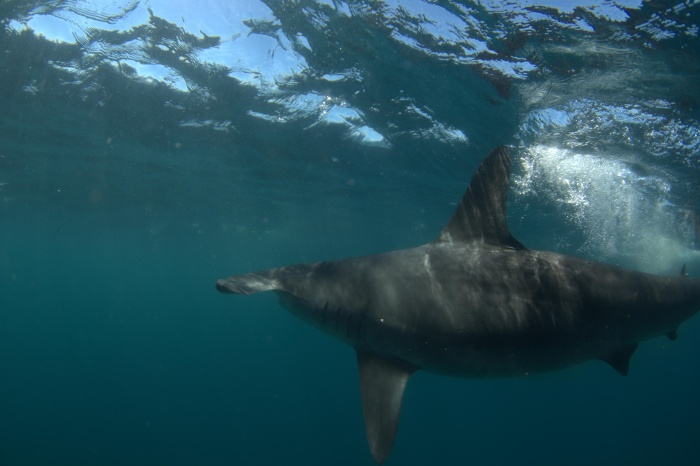Hammer: (205, 147, 700, 461)
